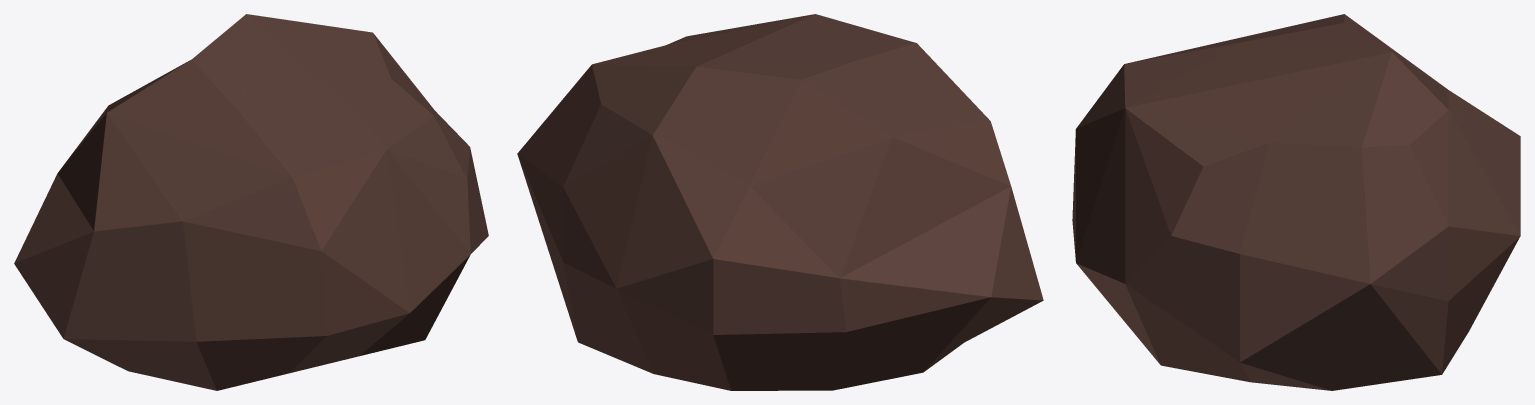
File: Boulder-A11.fbx
The picture shows the model from 3 angles, left to right: view 1: azimuth 30°, elevation 25°; view 2: azimuth 150°, elevation 25°; view 3: azimuth 270°, elevation 25°; orthographic projection. The views are drawn at different scales.
Parts seen in each view (by area): view 1: Boulder-A11; view 2: Boulder-A11; view 3: Boulder-A11.
Part boxes in pixels (x1,y1,x2,y2): Boulder-A11: [14, 14, 488, 390]; Boulder-A11: [517, 14, 1043, 390]; Boulder-A11: [1072, 14, 1520, 390].
Size of the model in its own units: 145 by 84.16 by 123.
